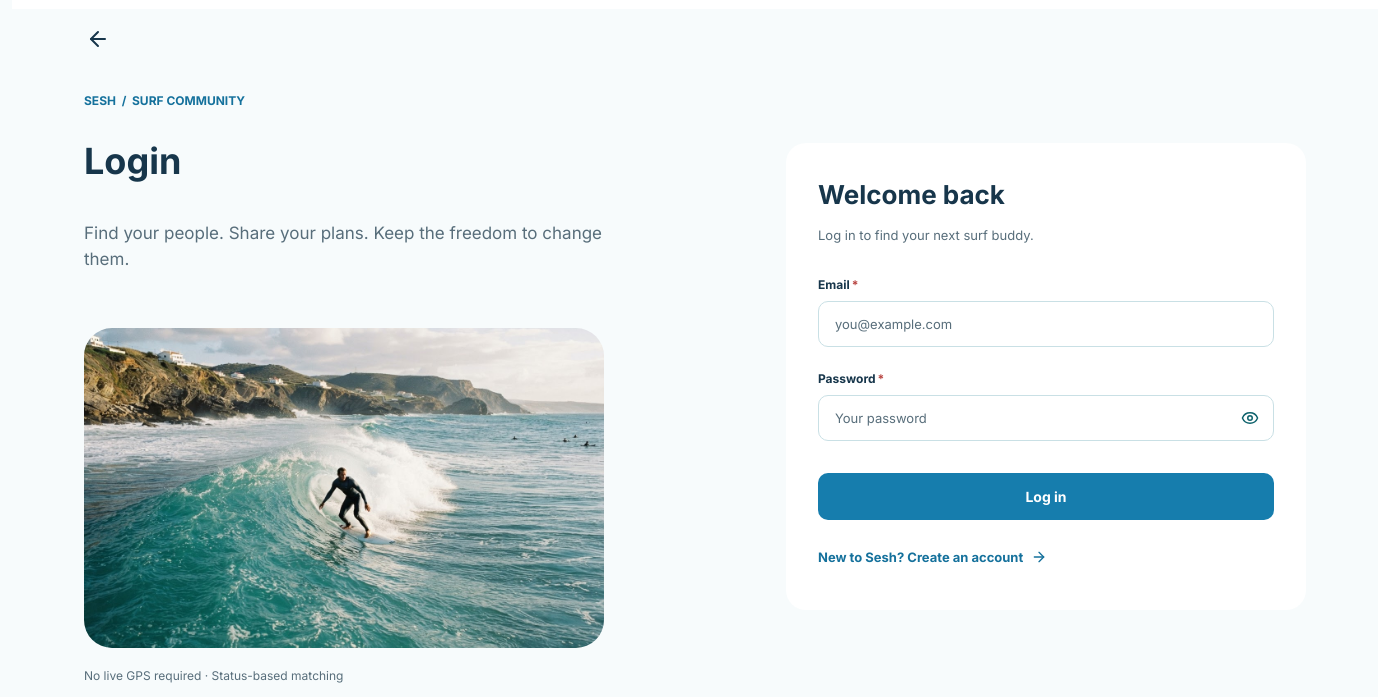
protected and public routes › full flow: protected page -> login -> back to that page
Expected: the heading "Welcome back" is shown, [818, 179, 1005, 210]
Type "surfer@example.com" into the field labelled "Email*". click: (1046, 324)
box: [818, 301, 1274, 347]
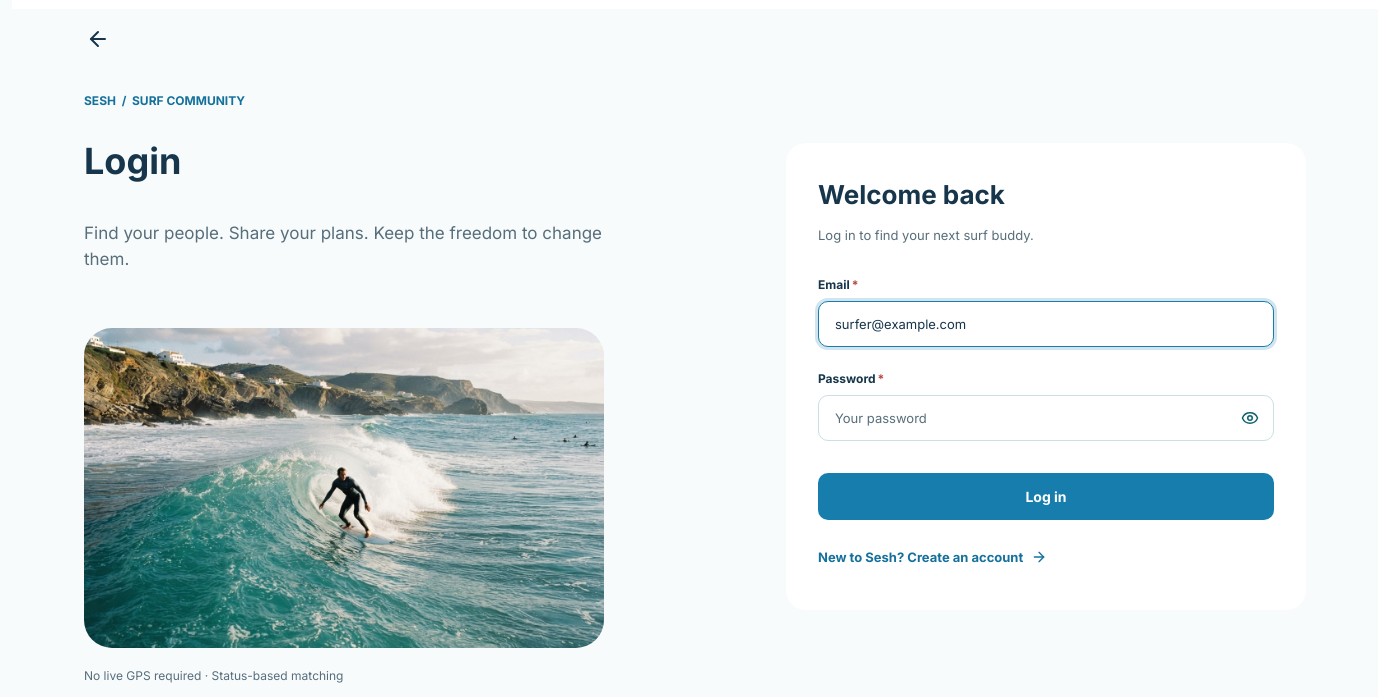
Type "correct horse battery" into the password field labelled "Password*". click: (1046, 418)
box: [818, 395, 1274, 441]
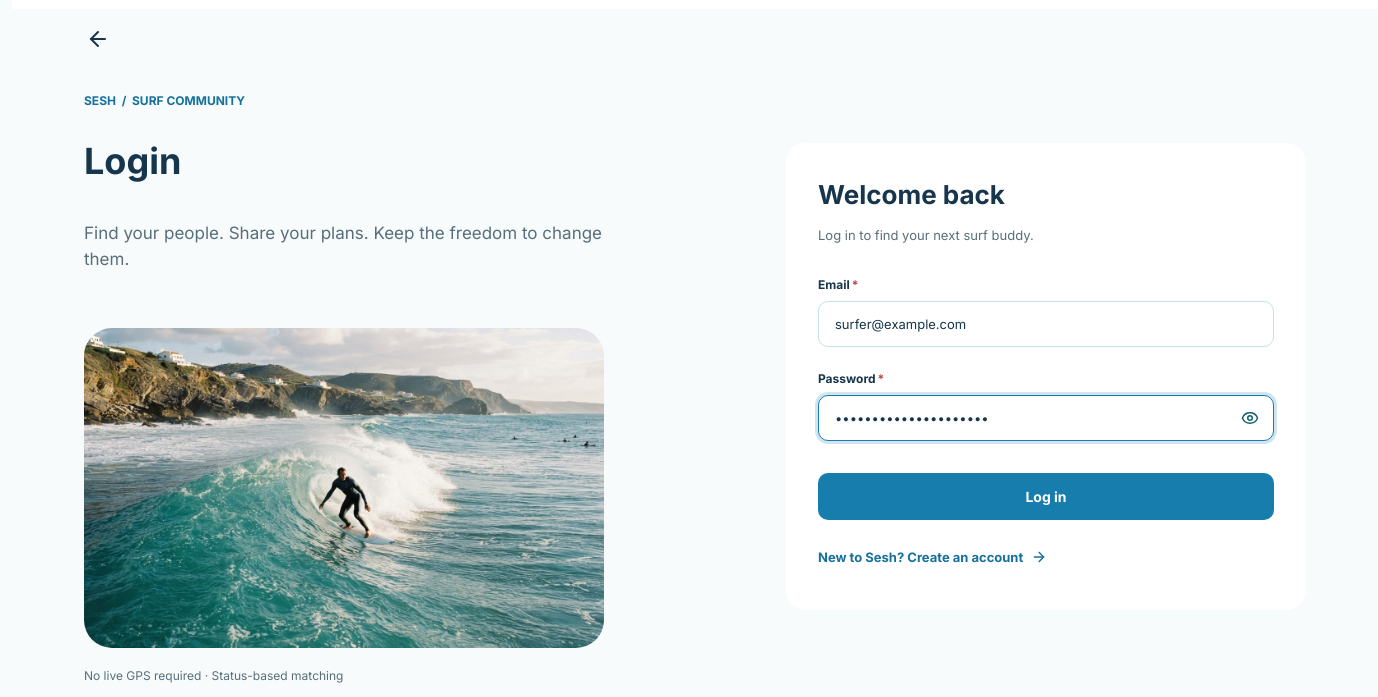
Click the button "Log in". click: (1046, 497)
box: [818, 473, 1274, 520]
(page scrolled)
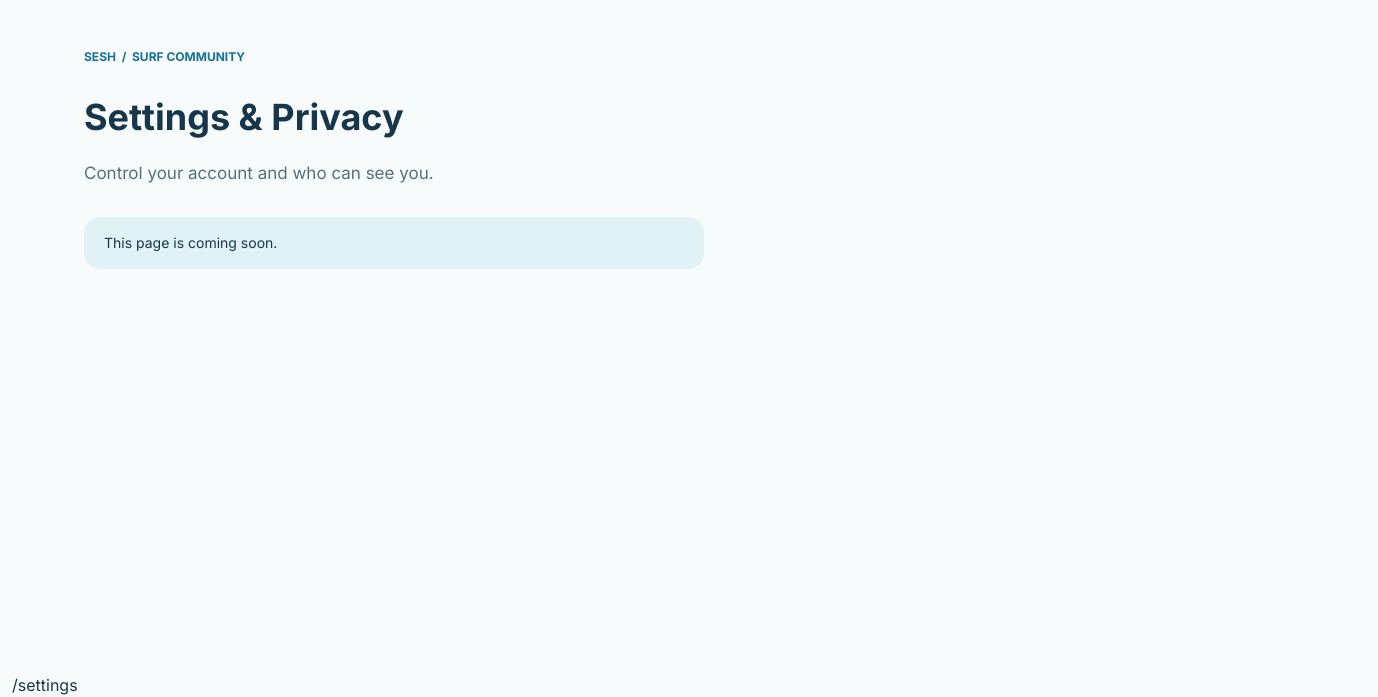
Result: the heading "Settings & Privacy" is shown at [84, 95, 404, 139]
Result: the text with test id "location" reads "/settings" at [12, 675, 78, 695]
